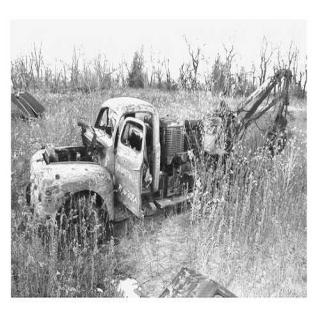Towing_truck: (24, 66, 293, 252)
